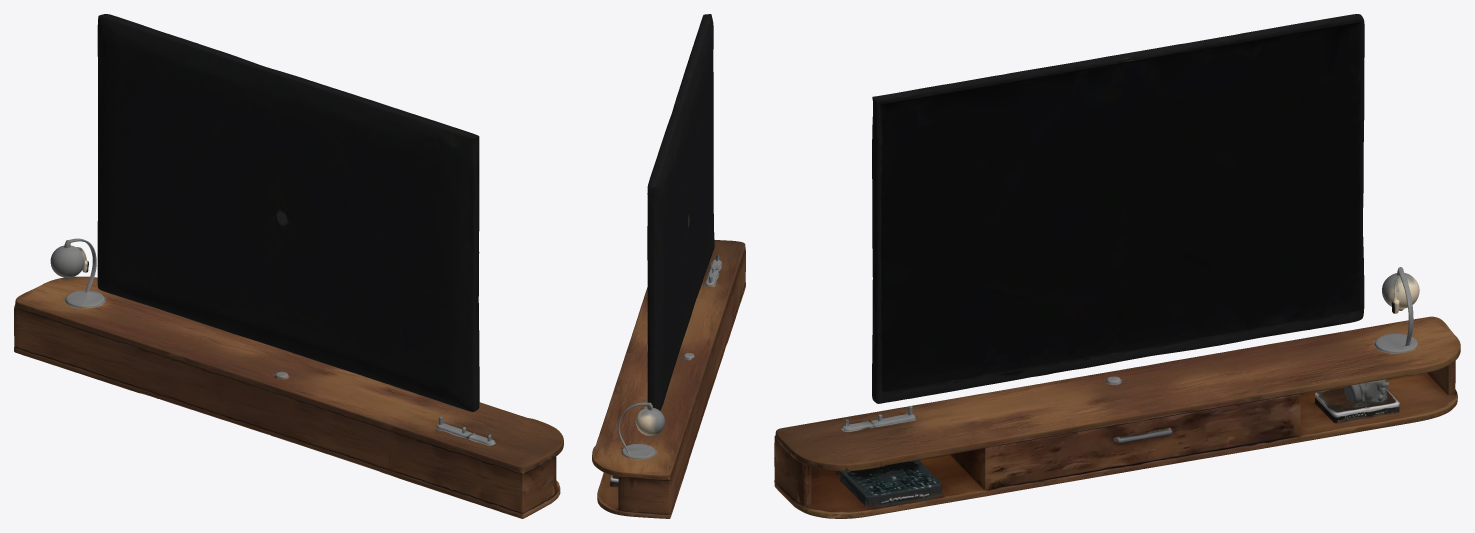
The model's file is floativa-com-products-rustic-brown-slim-floating-tv-stand-wa-b95550.glb.
The picture shows the model from 3 angles, left to right: view 1: azimuth 30°, elevation 25°; view 2: azimuth 150°, elevation 25°; view 3: azimuth 270°, elevation 25°; orthographic projection. The views are drawn at different scales.
Visible parts, largest first — view 1: tripo_node_af593b0b-bb6b-4fd3-858c-9c20b65fcd4b; view 2: tripo_node_af593b0b-bb6b-4fd3-858c-9c20b65fcd4b; view 3: tripo_node_af593b0b-bb6b-4fd3-858c-9c20b65fcd4b.
Boxes of the visible parts, x1=… form: tripo_node_af593b0b-bb6b-4fd3-858c-9c20b65fcd4b: x1=14, y1=14, x2=563, y2=518; tripo_node_af593b0b-bb6b-4fd3-858c-9c20b65fcd4b: x1=592, y1=14, x2=745, y2=518; tripo_node_af593b0b-bb6b-4fd3-858c-9c20b65fcd4b: x1=774, y1=14, x2=1460, y2=518.
Bounding box in the file's own units: 0.4908 × 0.5948 × 0.9543.
Materials: 1 (1 with a texture image).
